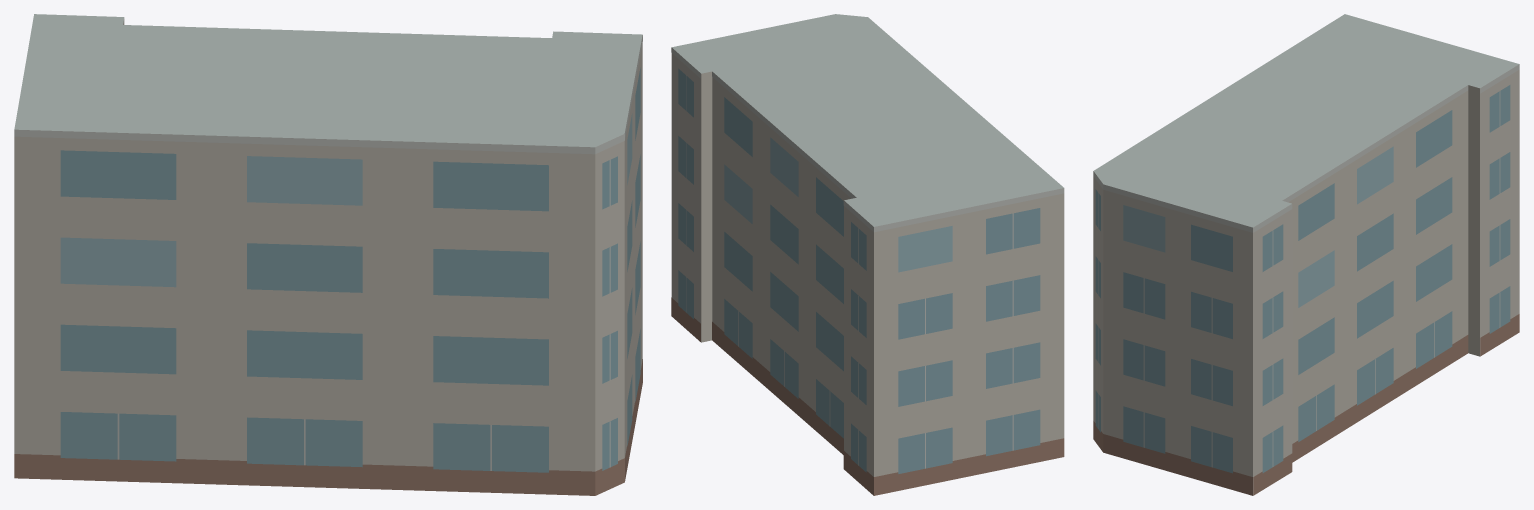
File: survey-upis-32811296.glb
3 views of the same model, side by side, from view 1: azimuth 30°, elevation 25°; view 2: azimuth 150°, elevation 25°; view 3: azimuth 270°, elevation 25° (orthographic). The views are drawn at different scales.
Parts seen in each view (by area): view 1: survey-upis-32811296.tmp; view 2: survey-upis-32811296.tmp; view 3: survey-upis-32811296.tmp.
Boxes of the visible parts, x1,y1,x2,y2 form: survey-upis-32811296.tmp: [14, 14, 642, 495]; survey-upis-32811296.tmp: [671, 14, 1064, 495]; survey-upis-32811296.tmp: [1093, 14, 1519, 495].
Size of the model in its own units: 20.84 by 12.2 by 17.57.
